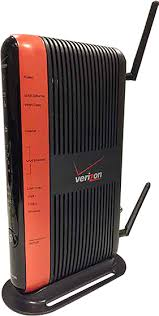Verizon Router: (1, 28, 158, 316)
